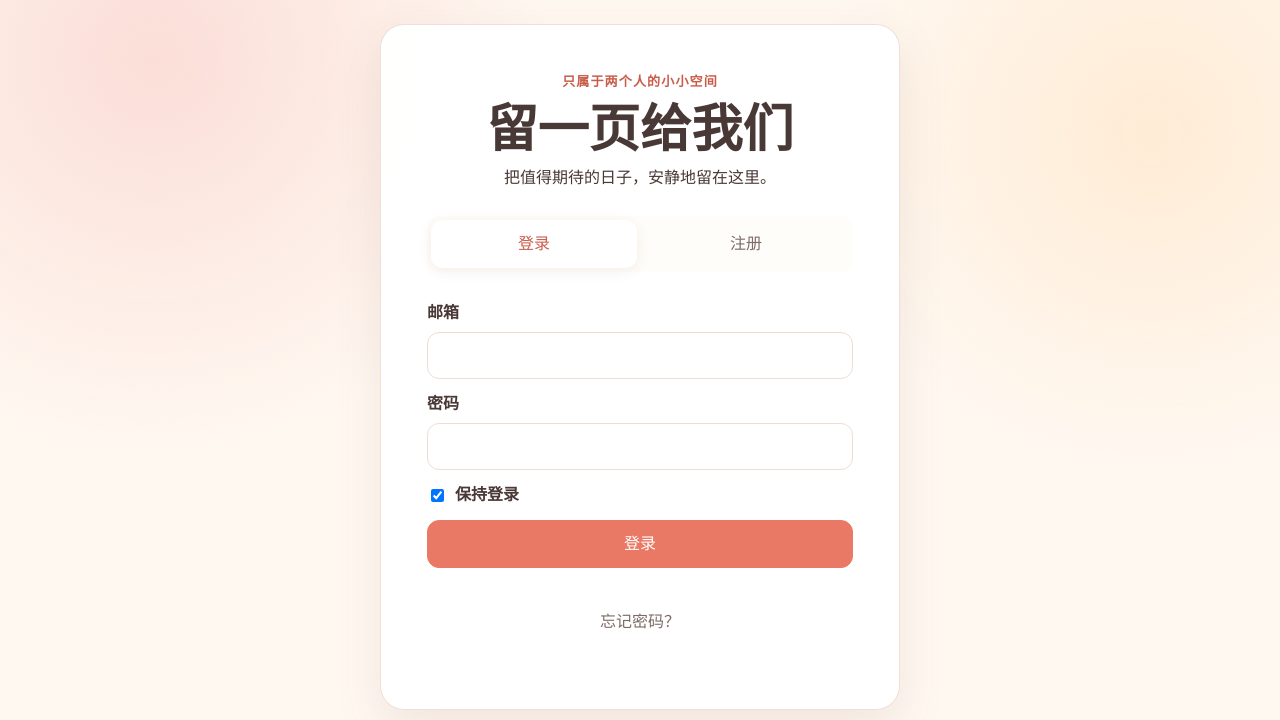
registers with profile fields and keeps values when registration fails
Click the tab "注册" at {"x": 746, "y": 244}, box [643,220,849,268]
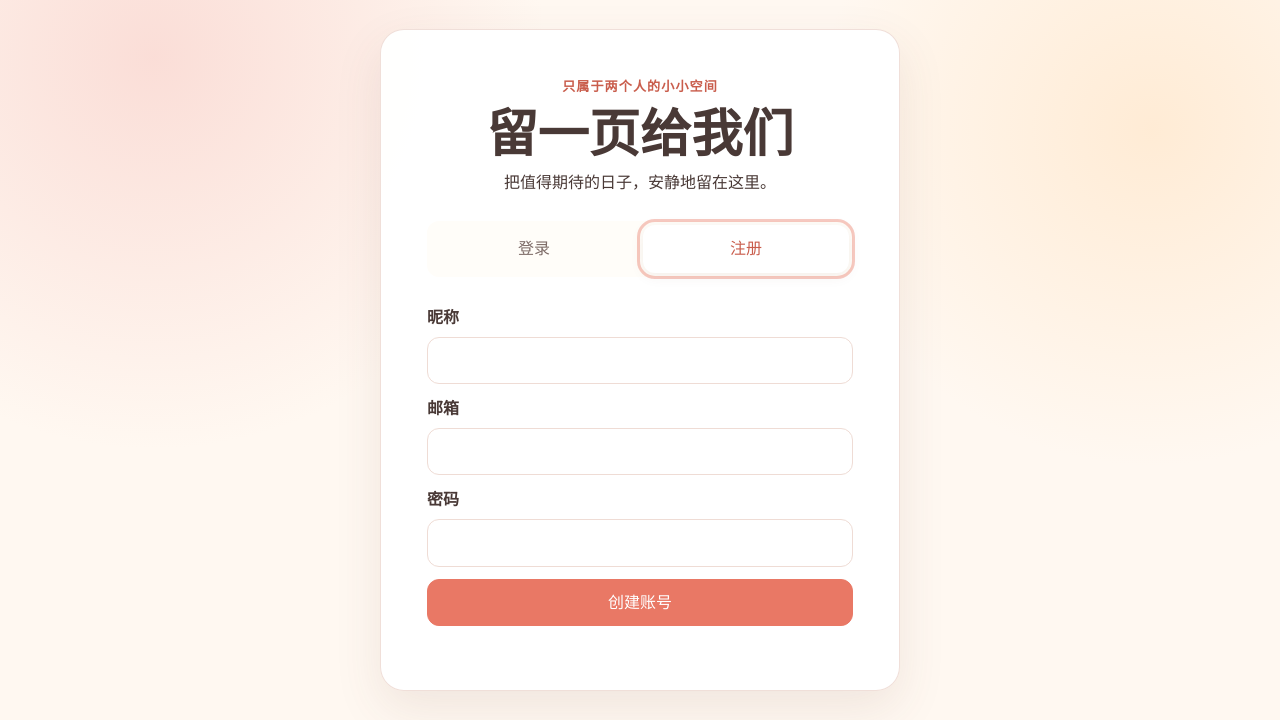
Expected: the field labelled "昵称" has attribute autocomplete="name"
Expected: the password field labelled "密码" has attribute autocomplete="new-password", [427,519,853,566]
Type "小雨" into the field labelled "昵称" at {"x": 640, "y": 360}, box [427,336,853,384]
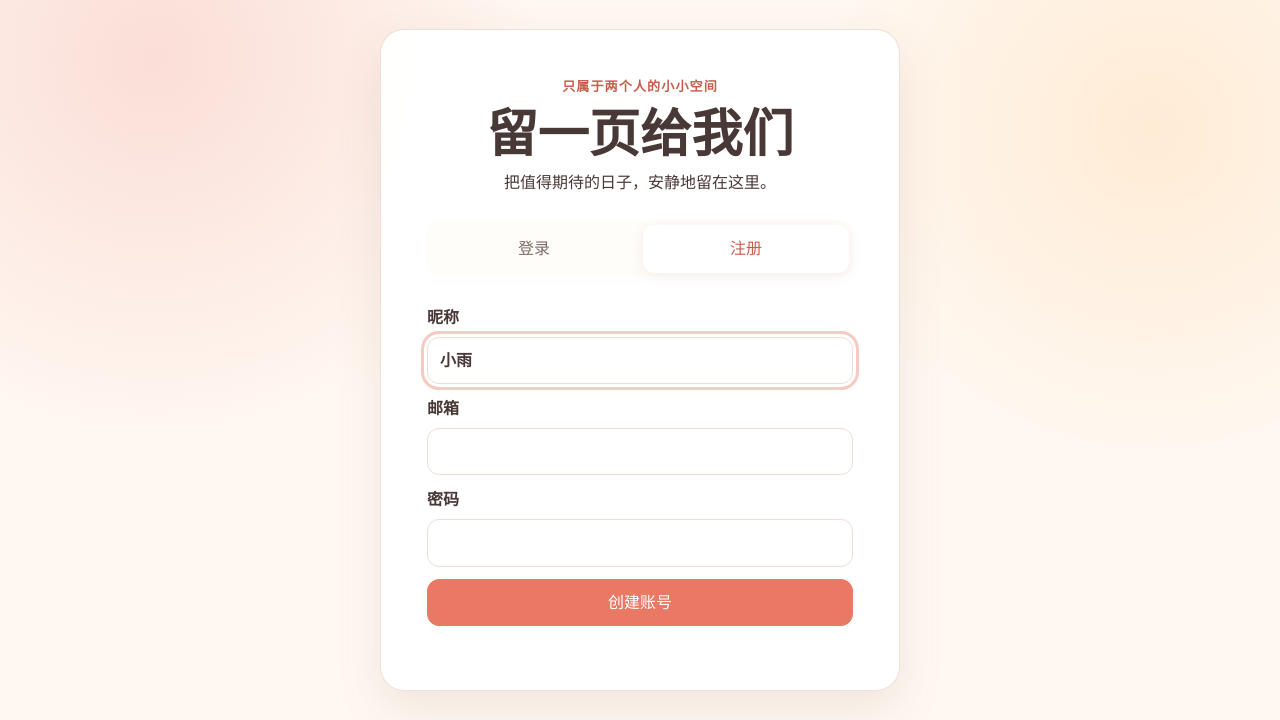
Type "me@example.com" into the field labelled "邮箱" at {"x": 640, "y": 452}, box [427,428,853,475]
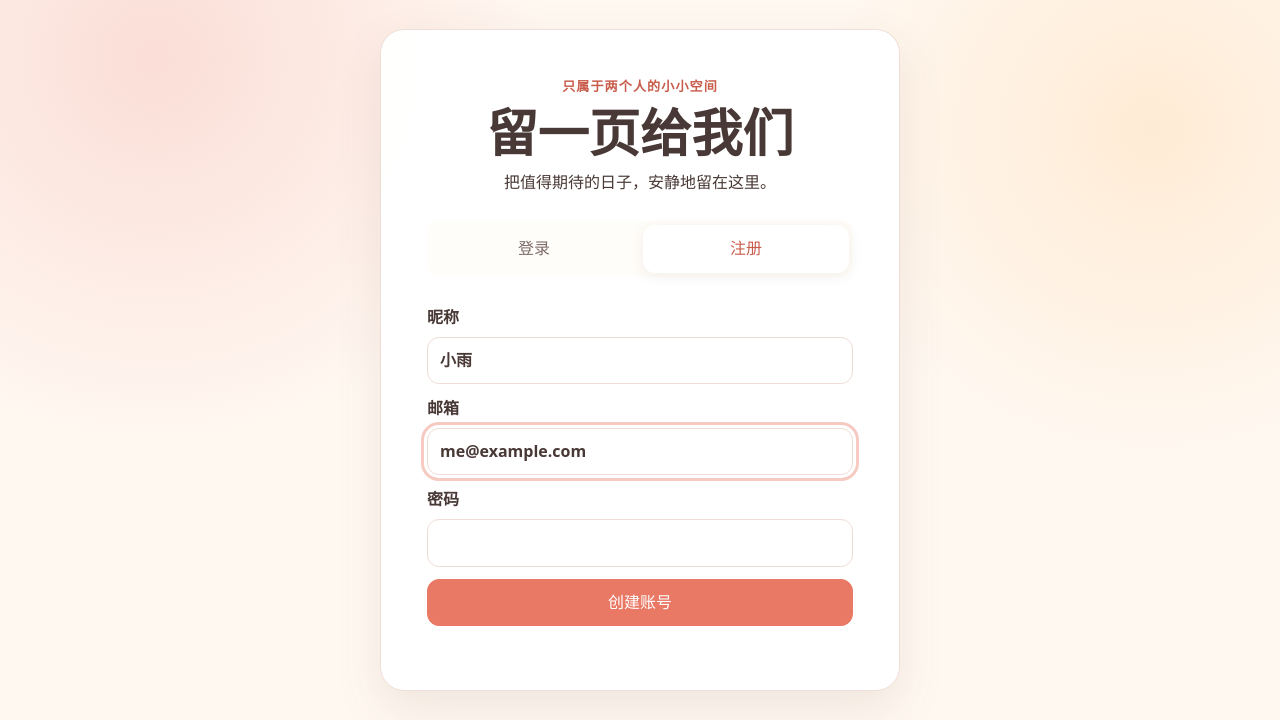
Type "123" into the password field labelled "密码" at {"x": 640, "y": 543}, box [427,519,853,566]
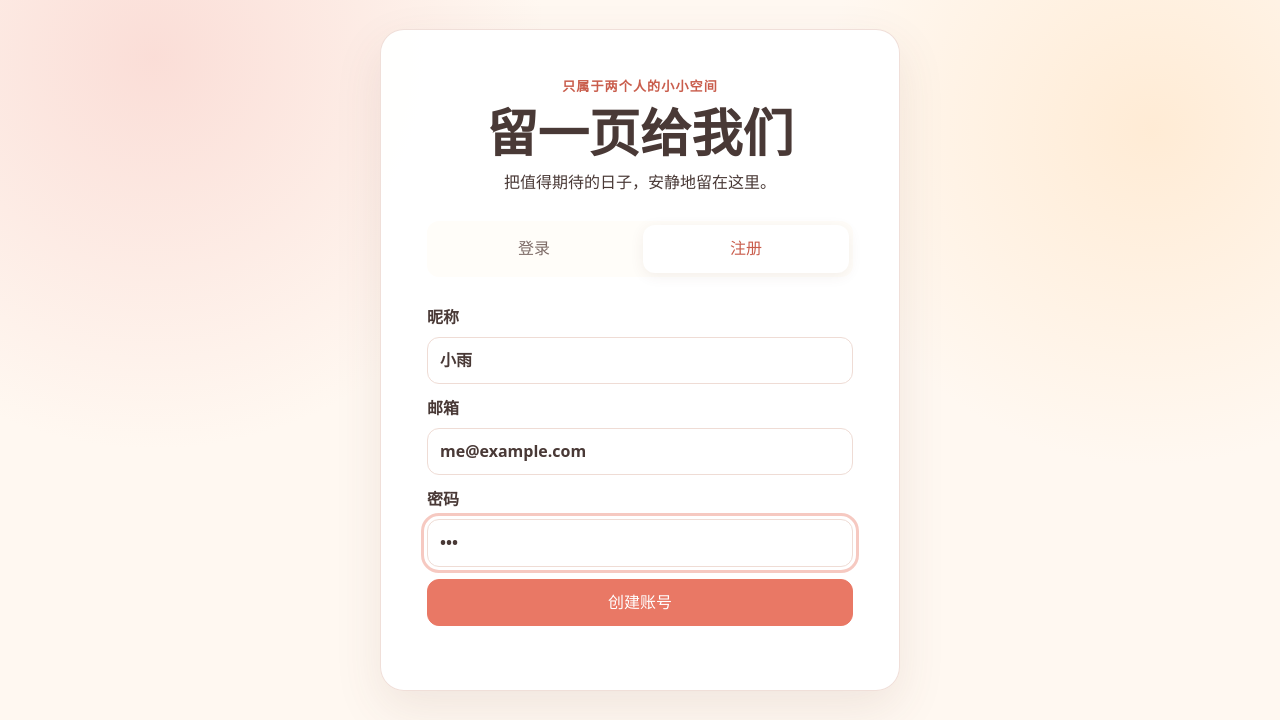
Click the button "创建账号" at {"x": 640, "y": 602}, box [427,578,853,626]
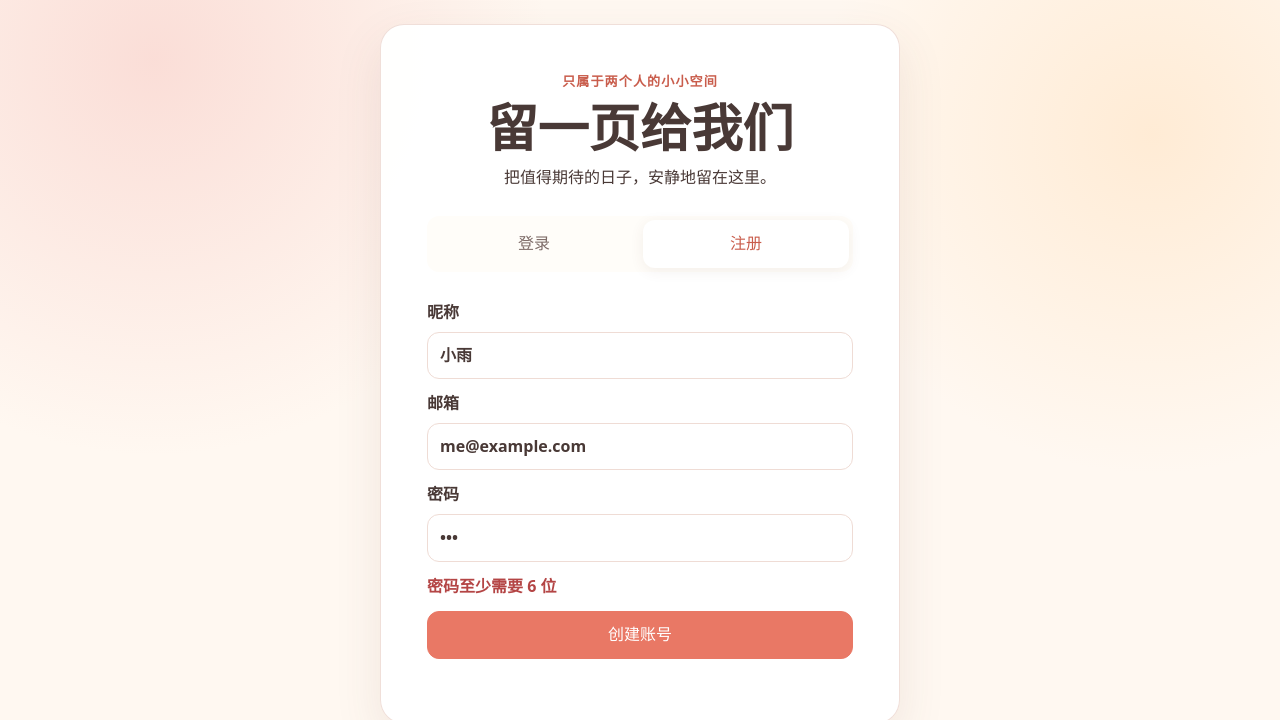
Expected: the message reads "密码至少需要 6 位", [427,575,556,597]
